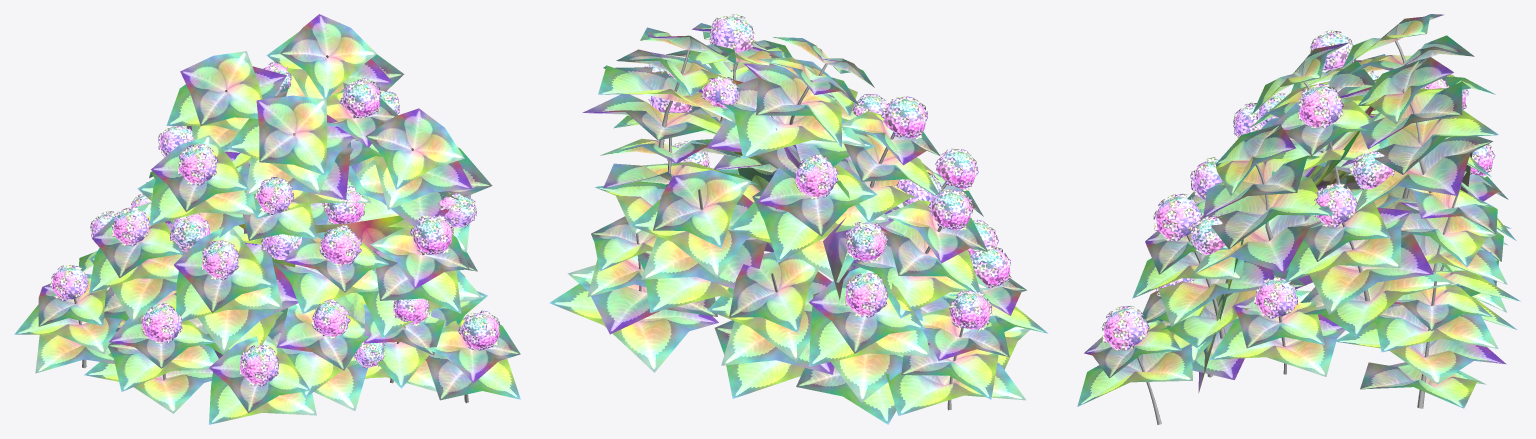
The model's file is hydrangea_large_corner_SM.fbx.
3 renders of one model, left to right at view 1: azimuth 30°, elevation 25°; view 2: azimuth 150°, elevation 25°; view 3: azimuth 270°, elevation 25°, orthographic. The views are drawn at different scales.
Parts seen in each view (by area): view 1: hydrangea_large_corner_SM_LOD0; view 2: hydrangea_large_corner_SM_LOD0; view 3: hydrangea_large_corner_SM_LOD0.
Part boxes in pixels (bbox=[...]): hydrangea_large_corner_SM_LOD0: bbox=[14, 14, 520, 424]; hydrangea_large_corner_SM_LOD0: bbox=[549, 14, 1048, 424]; hydrangea_large_corner_SM_LOD0: bbox=[1077, 14, 1520, 424].
Bounding box in the file's own units: 596 × 500 × 425.
4 materials, 3 textured.
